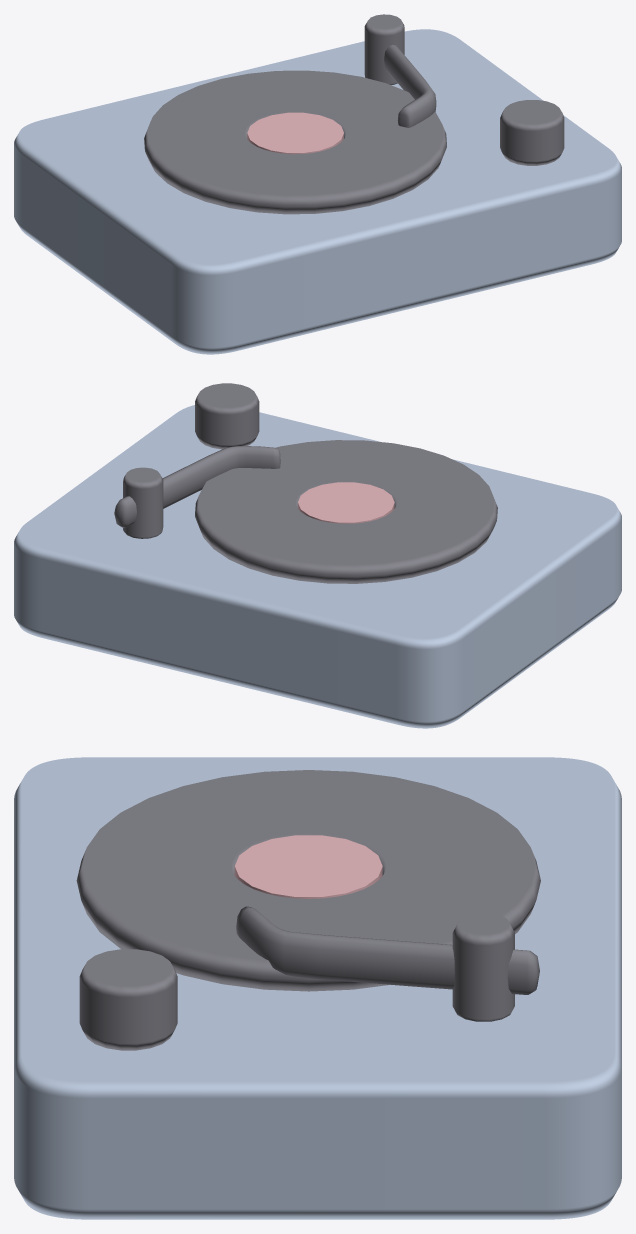
File: record_player.glb
The picture shows the model from 3 angles, top to bottom: view 1: azimuth 30°, elevation 25°; view 2: azimuth 150°, elevation 25°; view 3: azimuth 270°, elevation 25°; orthographic projection. The views are drawn at different scales.
Parts seen in each view (by area): view 1: Rectangle 2, Cylinder (×2), Cylinder 2, red, Cube; view 2: Rectangle 2, Cylinder (×2), Cylinder 2, Cube, red; view 3: Rectangle 2, Cylinder (×2), Cube, Cylinder 2, red.
Part boxes in pixels (x1,y1,x2,y2): Rectangle 2: (14,29,621,354); Cylinder (×2): (144,14,446,214); Cylinder 2: (500,100,564,165); red: (247,112,343,154); Cube: (384,45,436,127); Rectangle 2: (14,405,621,728); Cylinder (×2): (123,440,497,583); Cylinder 2: (195,383,259,449); Cube: (114,446,280,527); red: (298,482,394,523); Rectangle 2: (14,757,621,1219); Cylinder (×2): (76,770,540,1021); Cube: (236,906,539,994); Cylinder 2: (79,949,177,1050); red: (234,835,382,898).
Size of the model in its own units: 1.13 by 0.3589 by 0.8806.
